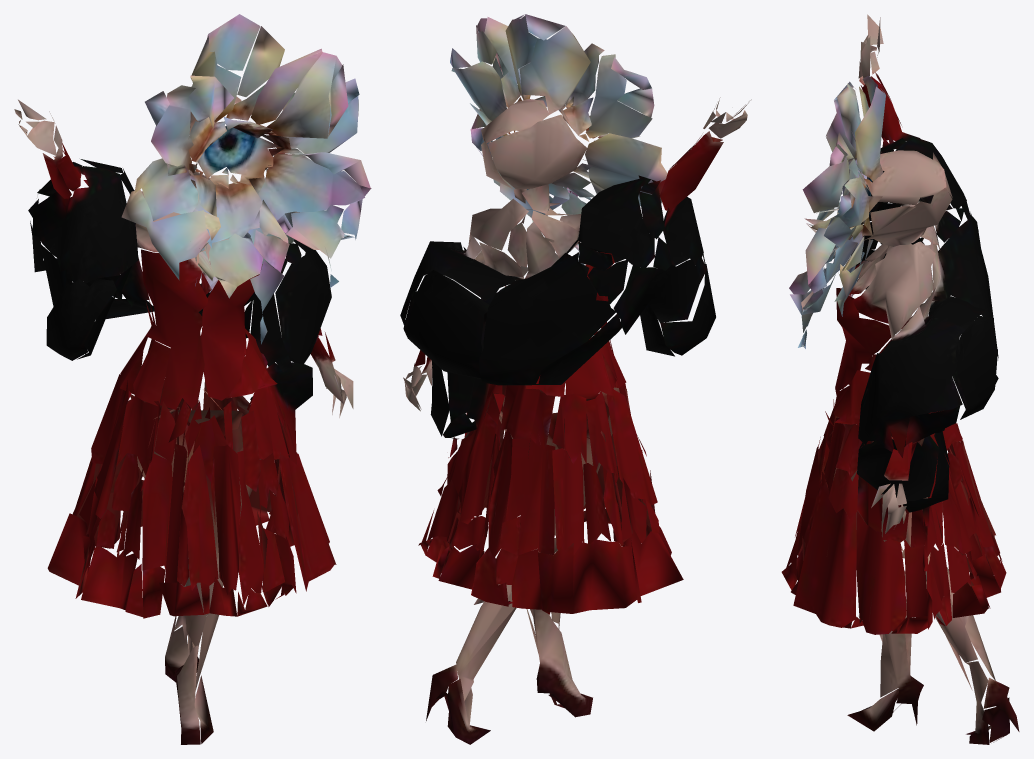
File: cast_loretta.glb
The picture shows the model from 3 angles, left to right: view 1: azimuth 30°, elevation 25°; view 2: azimuth 150°, elevation 25°; view 3: azimuth 270°, elevation 25°; orthographic projection. The views are drawn at different scales.
Parts seen in each view (by area): view 1: tripo_node_185166c0-c877-42b5-ac3a-c83c0cdb6d57; view 2: tripo_node_185166c0-c877-42b5-ac3a-c83c0cdb6d57; view 3: tripo_node_185166c0-c877-42b5-ac3a-c83c0cdb6d57.
Part boxes in pixels (x1=…): tripo_node_185166c0-c877-42b5-ac3a-c83c0cdb6d57: x1=14, y1=14, x2=371, y2=744; tripo_node_185166c0-c877-42b5-ac3a-c83c0cdb6d57: x1=400, y1=14, x2=751, y2=744; tripo_node_185166c0-c877-42b5-ac3a-c83c0cdb6d57: x1=781, y1=14, x2=1019, y2=744.
Bounding box in the file's own units: 0.5095 × 0.9896 × 0.3226.
Materials: 1 (1 with a texture image).
